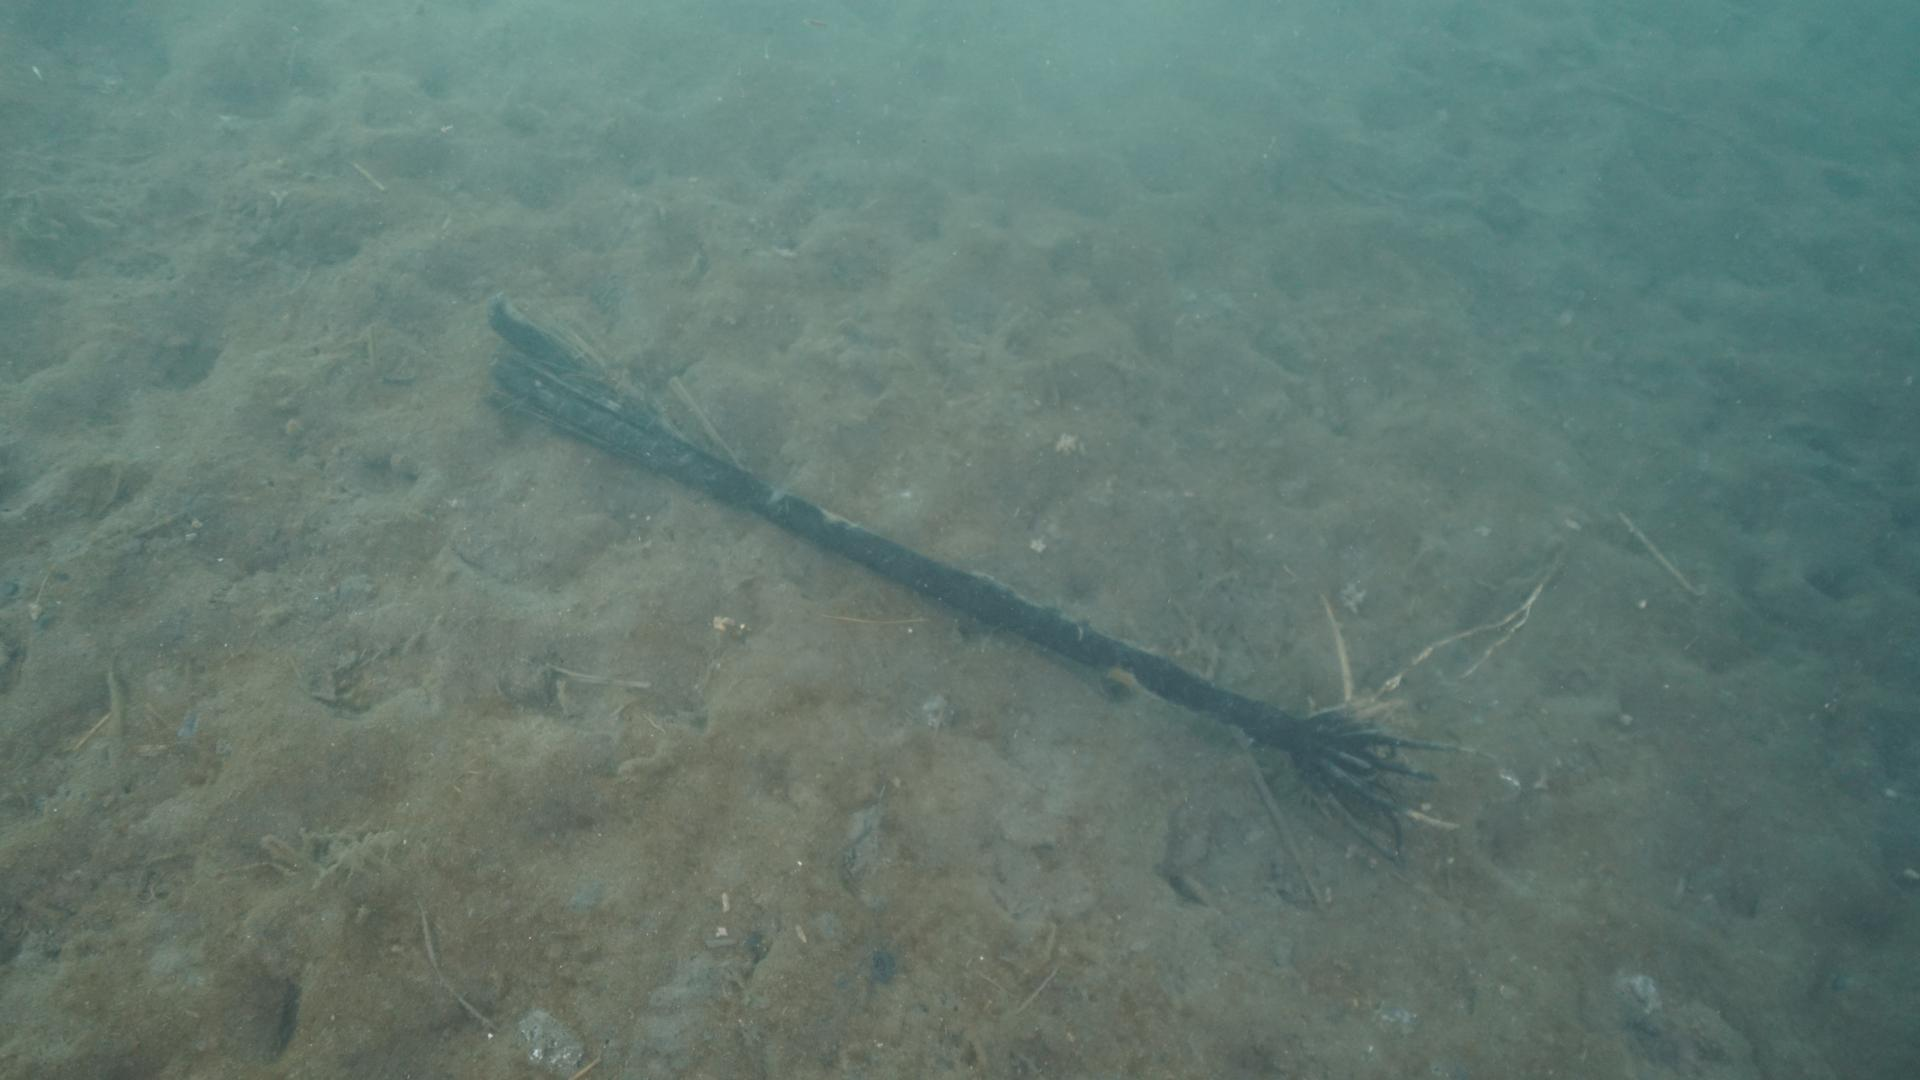wood: (483, 291, 1444, 855)
